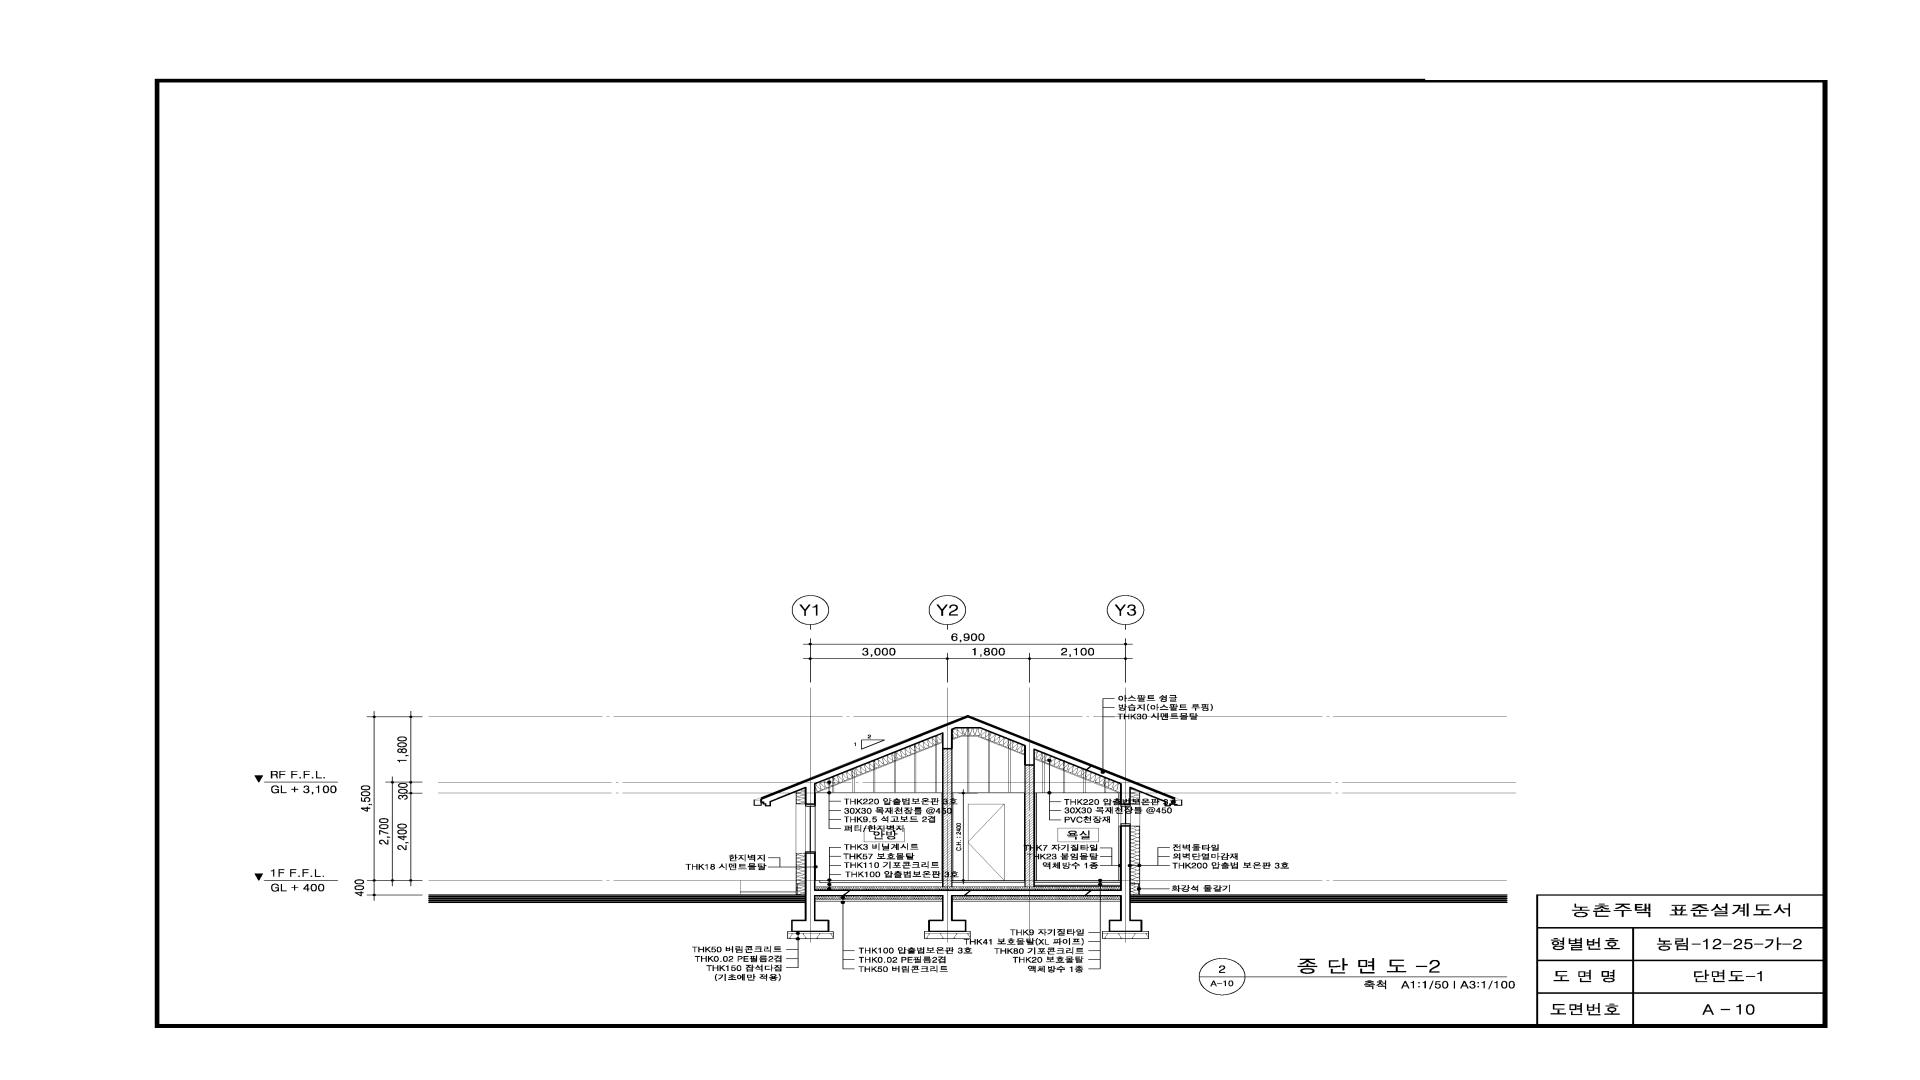door: (968, 804, 1005, 880)
wall: (754, 715, 1182, 806), (791, 826, 1143, 932), (942, 749, 953, 887), (1024, 765, 1035, 887)
window: (796, 805, 816, 853), (1120, 804, 1140, 826)
